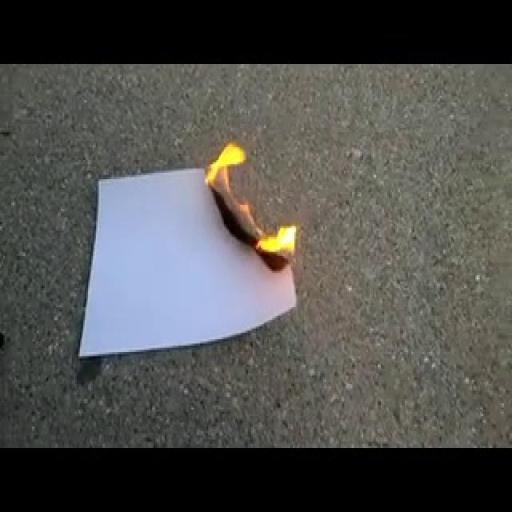smoke: (180, 118, 287, 264)
